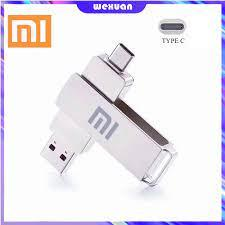Flash-drive: (42, 41, 178, 191)
